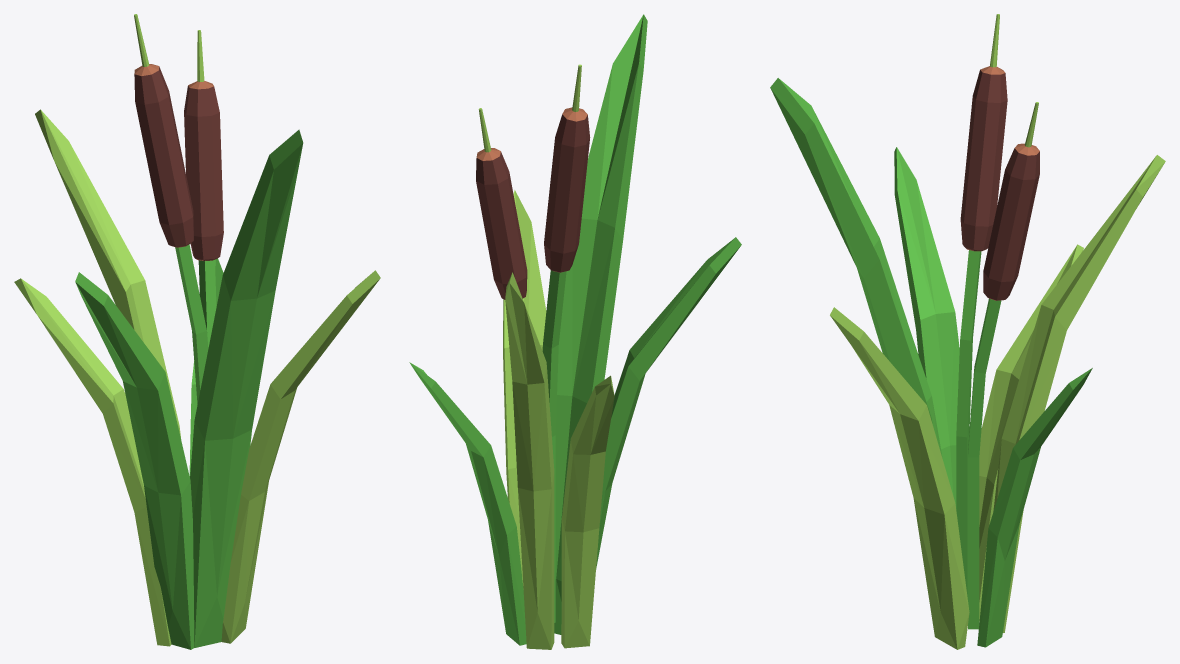
Rendered from Watter Battle 01.fbx.
3 views of the same model, side by side, from view 1: azimuth 30°, elevation 25°; view 2: azimuth 150°, elevation 25°; view 3: azimuth 270°, elevation 25° (orthographic). The views are drawn at different scales.
Visible parts, largest first — view 1: Watter Battle 01; view 2: Watter Battle 01; view 3: Watter Battle 01.
Boxes of the visible parts, x1,y1,x2,y2 form: Watter Battle 01: [14, 14, 380, 649]; Watter Battle 01: [409, 14, 741, 649]; Watter Battle 01: [770, 14, 1165, 649].
Bounding box in the file's own units: 56.11 × 122 × 73.81.
